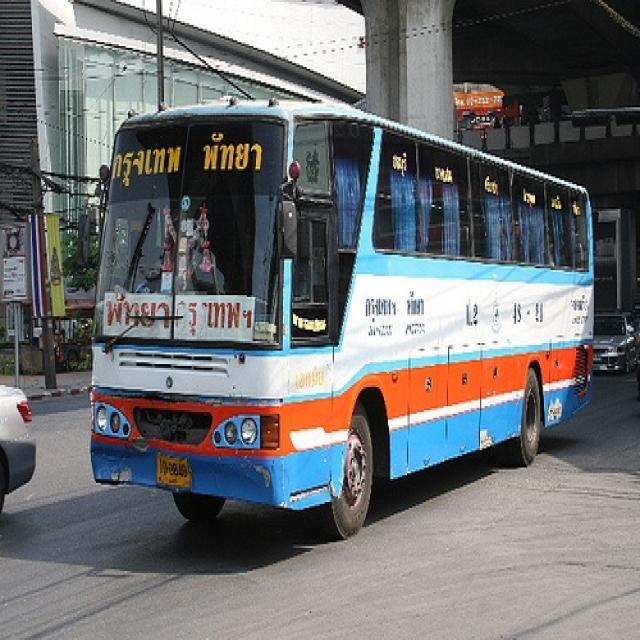bus: (88, 100, 594, 538)
car: (592, 311, 638, 384)
